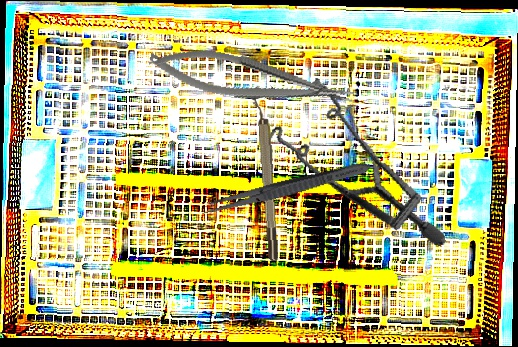Dressing Forceps: (199, 157, 373, 220)
Fixation Ring: (249, 85, 282, 262)
Needle Holder: (145, 35, 357, 125)
Speculum: (257, 56, 447, 282)
